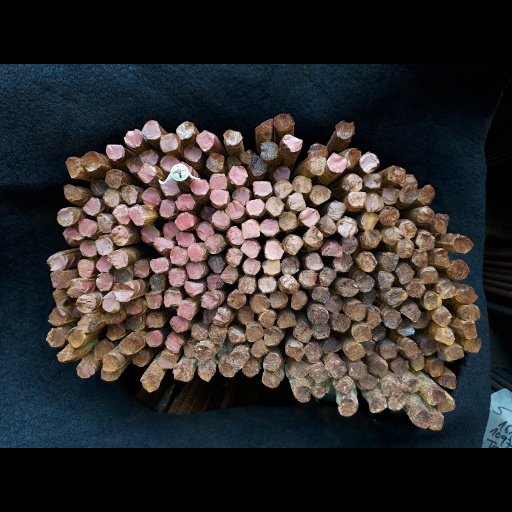dipstick: (337, 216, 357, 237), (254, 118, 273, 140), (278, 274, 300, 293), (455, 286, 478, 304), (327, 152, 347, 172), (303, 226, 323, 246), (358, 251, 377, 272), (303, 342, 322, 363), (261, 370, 283, 388), (399, 304, 421, 322), (379, 206, 399, 225), (310, 363, 330, 382), (82, 151, 100, 172), (360, 152, 378, 173), (111, 225, 129, 246), (113, 283, 134, 301), (299, 208, 320, 226), (310, 185, 331, 203), (293, 322, 311, 343), (344, 342, 365, 360), (337, 398, 358, 416), (65, 157, 82, 179), (283, 134, 302, 153), (279, 211, 298, 230), (285, 342, 304, 361), (65, 329, 85, 347), (140, 373, 160, 391), (250, 294, 270, 312), (197, 360, 215, 380), (451, 259, 469, 279), (396, 263, 414, 283), (433, 307, 451, 327), (196, 130, 213, 151), (273, 113, 294, 130), (452, 236, 473, 253), (142, 120, 160, 139), (160, 133, 178, 152), (63, 183, 82, 201), (335, 120, 354, 138), (265, 196, 283, 215), (285, 235, 303, 254), (46, 329, 65, 347), (95, 341, 113, 360), (165, 335, 184, 353), (213, 308, 232, 326), (227, 290, 246, 308), (436, 280, 455, 298), (332, 314, 351, 332), (369, 358, 388, 376), (328, 361, 347, 379), (76, 295, 96, 312), (264, 242, 284, 259), (263, 328, 283, 345), (361, 230, 381, 247), (383, 228, 403, 245), (415, 233, 435, 250), (377, 271, 394, 291), (387, 289, 407, 306), (349, 301, 366, 321), (172, 365, 193, 381), (381, 380, 402, 396), (124, 129, 142, 147), (176, 121, 194, 139), (261, 142, 279, 160), (307, 157, 325, 175), (170, 246, 188, 264), (328, 201, 346, 219), (340, 279, 358, 297), (407, 280, 425, 298), (353, 325, 371, 343), (172, 162, 191, 179), (206, 153, 223, 172), (113, 205, 130, 224), (274, 179, 291, 198), (343, 174, 362, 191), (211, 211, 230, 228), (227, 200, 244, 219), (109, 251, 128, 268), (77, 259, 94, 278), (46, 254, 65, 271), (50, 271, 69, 288), (219, 357, 236, 376), (418, 185, 435, 204), (379, 342, 398, 359), (435, 328, 454, 345), (413, 410, 430, 429), (139, 163, 155, 183), (143, 187, 159, 207), (103, 292, 119, 312), (320, 215, 336, 235), (398, 238, 414, 258), (289, 362, 309, 378), (346, 148, 361, 169), (321, 242, 342, 257), (434, 213, 449, 234), (425, 390, 446, 405), (229, 166, 246, 184), (120, 186, 137, 204), (83, 197, 100, 215), (293, 175, 311, 192), (79, 219, 97, 236), (79, 239, 97, 256), (246, 198, 264, 215), (288, 193, 306, 210), (242, 219, 259, 237), (227, 226, 244, 244), (48, 308, 66, 325), (225, 248, 242, 266), (260, 219, 278, 236), (106, 324, 124, 341), (201, 291, 219, 308), (300, 269, 317, 287), (263, 353, 280, 371), (334, 254, 352, 271), (361, 212, 379, 229), (399, 220, 416, 238), (349, 363, 367, 380), (336, 377, 354, 394), (419, 338, 437, 355), (250, 155, 266, 174), (106, 168, 122, 187), (388, 165, 404, 184), (175, 213, 194, 229), (76, 362, 95, 378), (290, 291, 306, 310), (383, 186, 399, 205), (399, 187, 418, 203), (412, 248, 428, 267), (314, 380, 330, 399), (366, 307, 381, 327), (322, 338, 342, 353), (444, 346, 464, 361), (184, 144, 201, 161), (366, 193, 383, 210), (96, 273, 113, 290), (186, 262, 203, 279), (221, 266, 238, 283), (119, 338, 136, 355), (306, 253, 323, 270), (191, 323, 208, 340), (250, 340, 267, 357), (319, 269, 336, 286), (357, 275, 374, 292), (106, 144, 124, 160), (161, 179, 179, 195), (57, 208, 73, 226), (159, 199, 175, 217), (176, 194, 194, 210), (96, 236, 112, 254), (141, 226, 159, 242), (205, 236, 223, 252), (133, 260, 149, 278), (208, 255, 224, 273), (78, 316, 96, 332), (170, 316, 188, 332), (238, 278, 256, 294), (238, 306, 254, 324), (382, 253, 398, 271), (390, 359, 408, 375), (404, 342, 420, 360), (396, 320, 414, 336), (223, 129, 242, 144), (129, 206, 144, 225), (150, 258, 169, 273), (258, 277, 277, 292), (309, 308, 328, 323), (434, 248, 449, 267), (461, 305, 480, 320), (228, 352, 248, 366), (436, 398, 456, 412), (233, 187, 249, 204), (197, 223, 213, 240), (188, 244, 204, 261), (52, 289, 68, 306), (168, 268, 184, 285), (243, 258, 260, 274), (102, 355, 119, 371), (246, 325, 263, 341), (243, 360, 259, 377), (341, 237, 357, 254), (417, 206, 434, 222), (294, 385, 310, 402), (209, 174, 227, 189), (104, 188, 119, 206), (348, 191, 366, 206), (68, 279, 83, 297), (242, 240, 257, 258), (125, 315, 143, 330), (270, 293, 288, 308), (312, 324, 330, 339), (388, 396, 406, 411), (209, 189, 228, 203), (308, 143, 327, 157), (114, 268, 133, 282), (184, 282, 203, 296), (96, 256, 112, 272), (178, 304, 194, 320), (163, 222, 178, 239), (281, 258, 298, 273), (206, 274, 223, 289), (164, 291, 181, 306), (228, 327, 245, 342), (325, 297, 342, 312), (424, 294, 441, 309), (462, 321, 477, 338), (429, 359, 444, 376), (429, 414, 444, 431), (160, 156, 178, 170), (191, 180, 209, 194), (97, 214, 111, 232), (253, 181, 271, 195), (363, 174, 381, 188), (176, 232, 194, 246), (262, 260, 280, 274), (124, 300, 142, 314), (158, 355, 176, 369), (194, 346, 212, 360), (311, 287, 329, 301), (464, 338, 482, 352), (438, 375, 456, 389), (277, 314, 296, 327), (126, 156, 141, 172), (63, 228, 83, 240), (146, 331, 162, 346), (259, 311, 274, 327), (141, 150, 158, 164), (150, 274, 164, 291), (132, 352, 149, 366), (369, 398, 386, 412), (359, 375, 376, 389), (420, 270, 438, 283), (91, 179, 106, 194), (200, 206, 215, 221), (146, 293, 161, 308), (415, 312, 430, 327), (146, 314, 163, 327), (154, 238, 172, 250), (240, 149, 254, 164), (274, 167, 289, 181), (58, 348, 73, 362), (363, 290, 377, 305), (371, 325, 385, 340), (403, 378, 418, 392), (411, 355, 424, 371), (203, 310, 217, 324), (100, 371, 119, 381), (403, 174, 417, 187), (104, 313, 122, 323), (184, 342, 194, 358), (226, 156, 240, 166)
